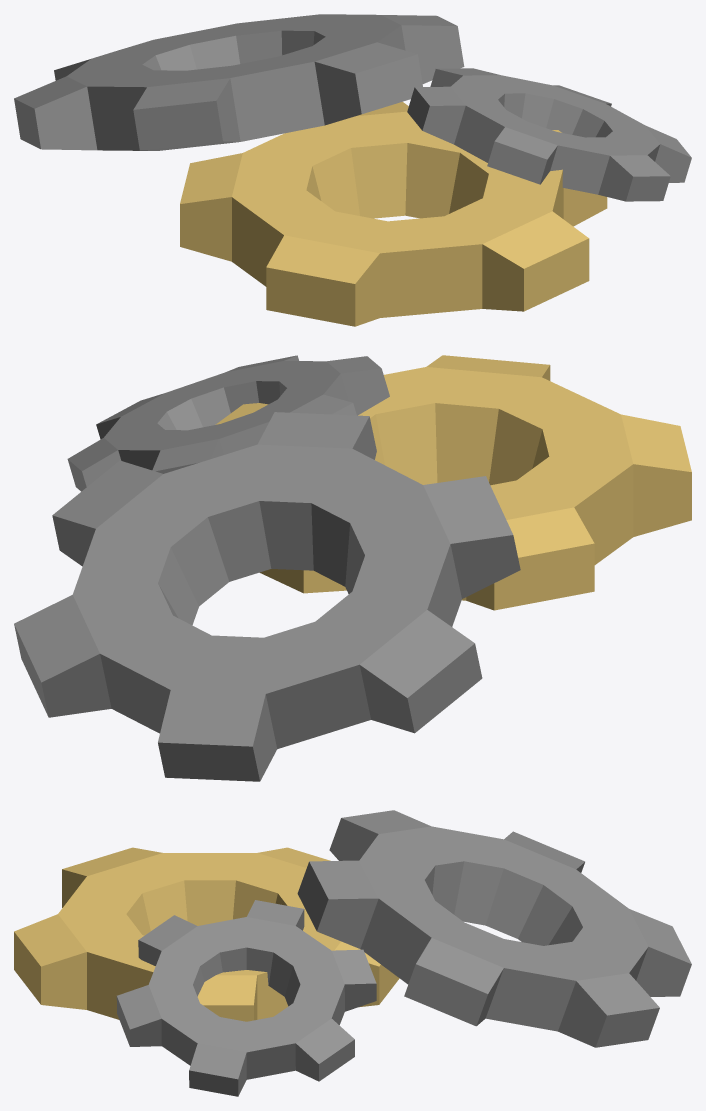
File: scrap1.fbx
3 views of the same model, one above another, from view 1: azimuth 30°, elevation 25°; view 2: azimuth 150°, elevation 25°; view 3: azimuth 270°, elevation 25° (orthographic). The views are drawn at different scales.
Parts seen in each view (by area): view 1: Circle, Circle.001, Circle.002; view 2: Circle.001, Circle, Circle.002; view 3: Circle.001, Circle, Circle.002.
Boxes of the visible parts, x1,y1,x2,y2 form: Circle: (180, 102, 607, 326); Circle.001: (14, 14, 464, 150); Circle.002: (407, 68, 691, 201); Circle.001: (14, 412, 520, 781); Circle: (215, 355, 691, 610); Circle.002: (67, 355, 389, 491); Circle.001: (297, 810, 691, 1047); Circle: (14, 847, 399, 1021); Circle.002: (116, 900, 376, 1096).
Size of the model in its own units: 333 by 106 by 445.
